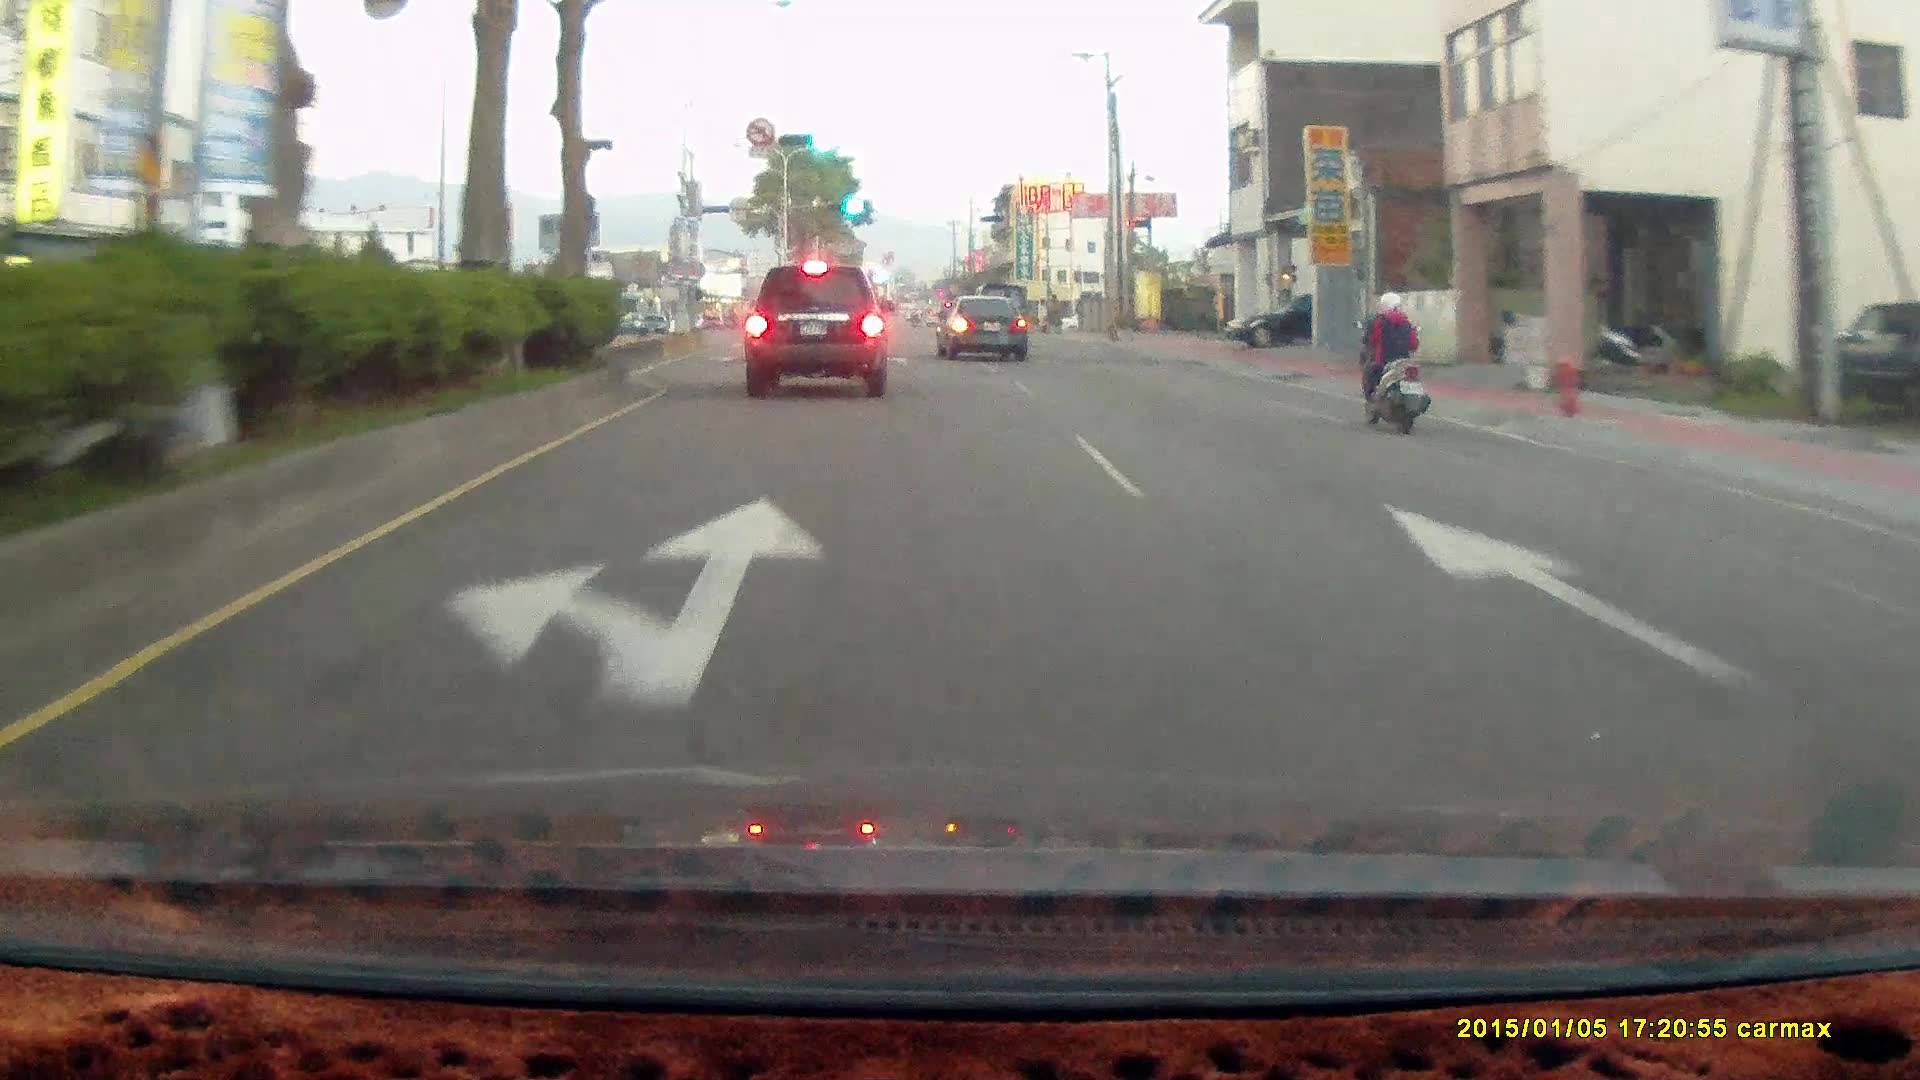rider: (1341, 277, 1444, 445), (1355, 289, 1430, 438)
vehicle: (738, 261, 890, 400), (743, 267, 895, 399), (1824, 301, 1920, 425), (1835, 302, 1920, 427), (1223, 290, 1388, 348), (935, 293, 1027, 359), (941, 297, 1032, 363), (1223, 293, 1318, 352)
